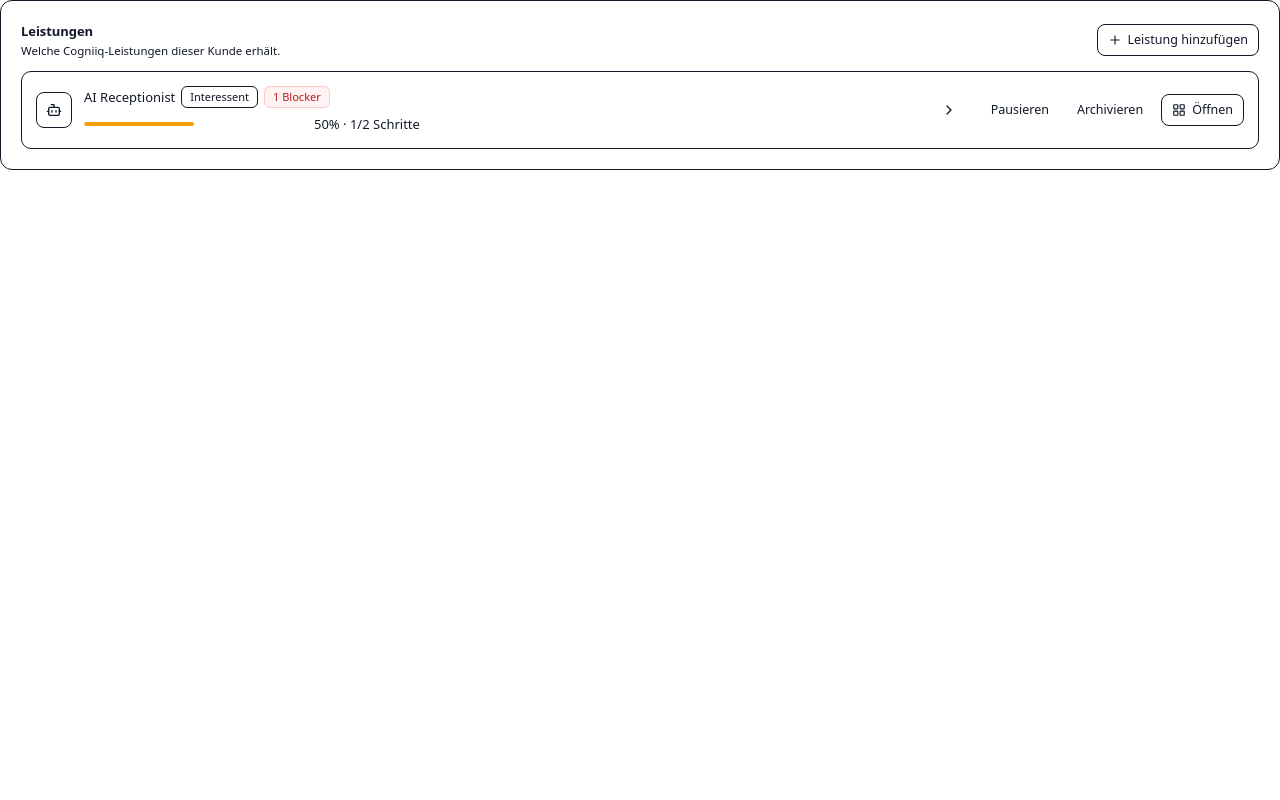
Test case: existing customers › archiving a service preserves its onboarding history
Expected: the link "AI Receptionist Interessent 1 Blocker 50% · 1/2 Schritte" is shown, left=36, top=86, right=957, bottom=134
Click the button "Archivieren": {"x": 1110, "y": 110} left=1067, top=94, right=1153, bottom=126
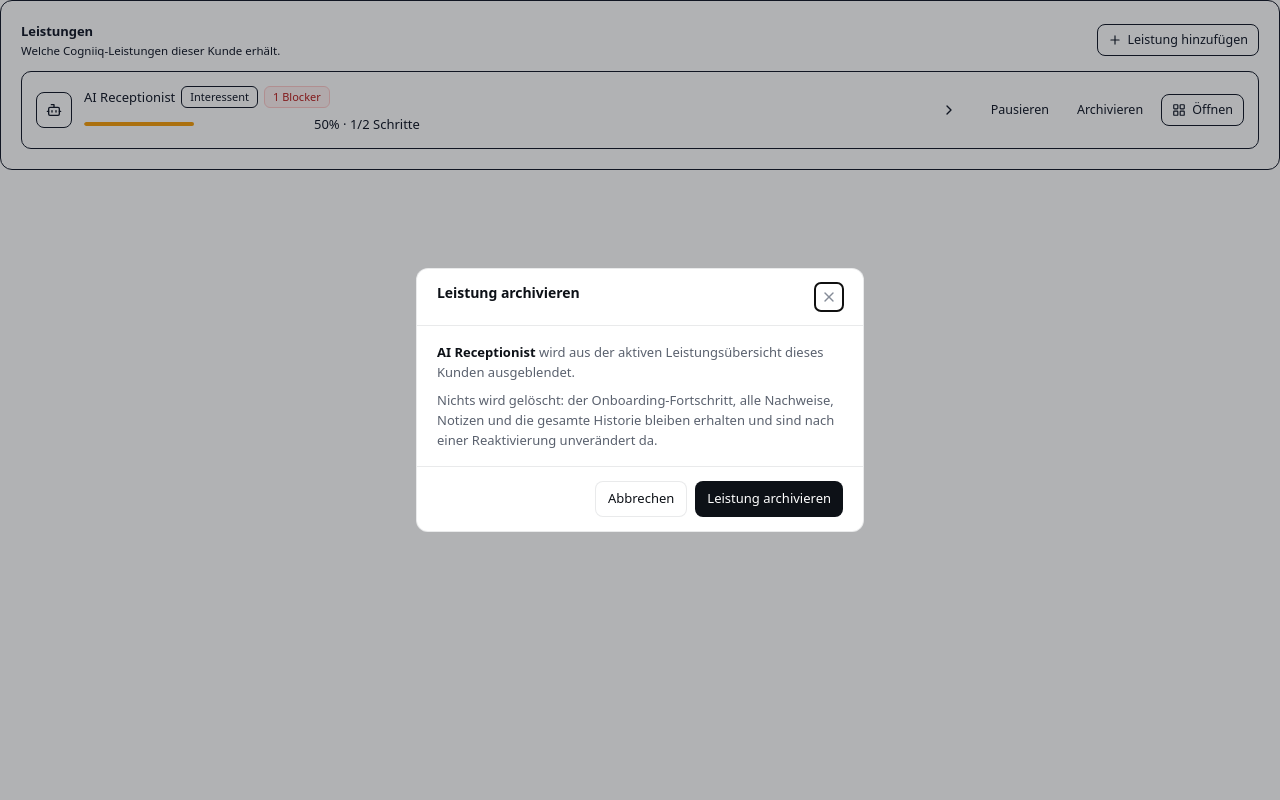
Click the button "Leistung archivieren": {"x": 769, "y": 499} left=695, top=481, right=843, bottom=517
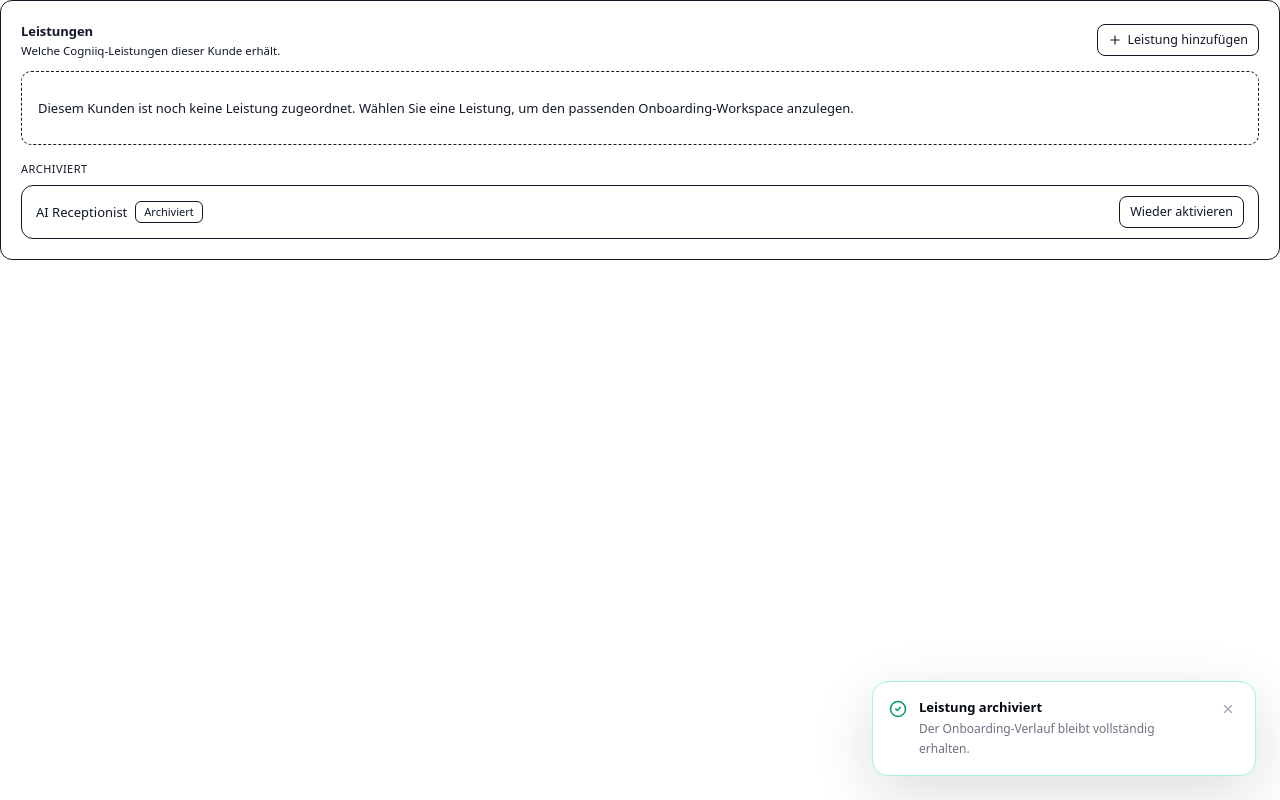
Result: the button "Wieder aktivieren" is shown at left=1119, top=196, right=1244, bottom=228
Result: the 1st text "Archiviert" is shown at left=21, top=161, right=88, bottom=176
